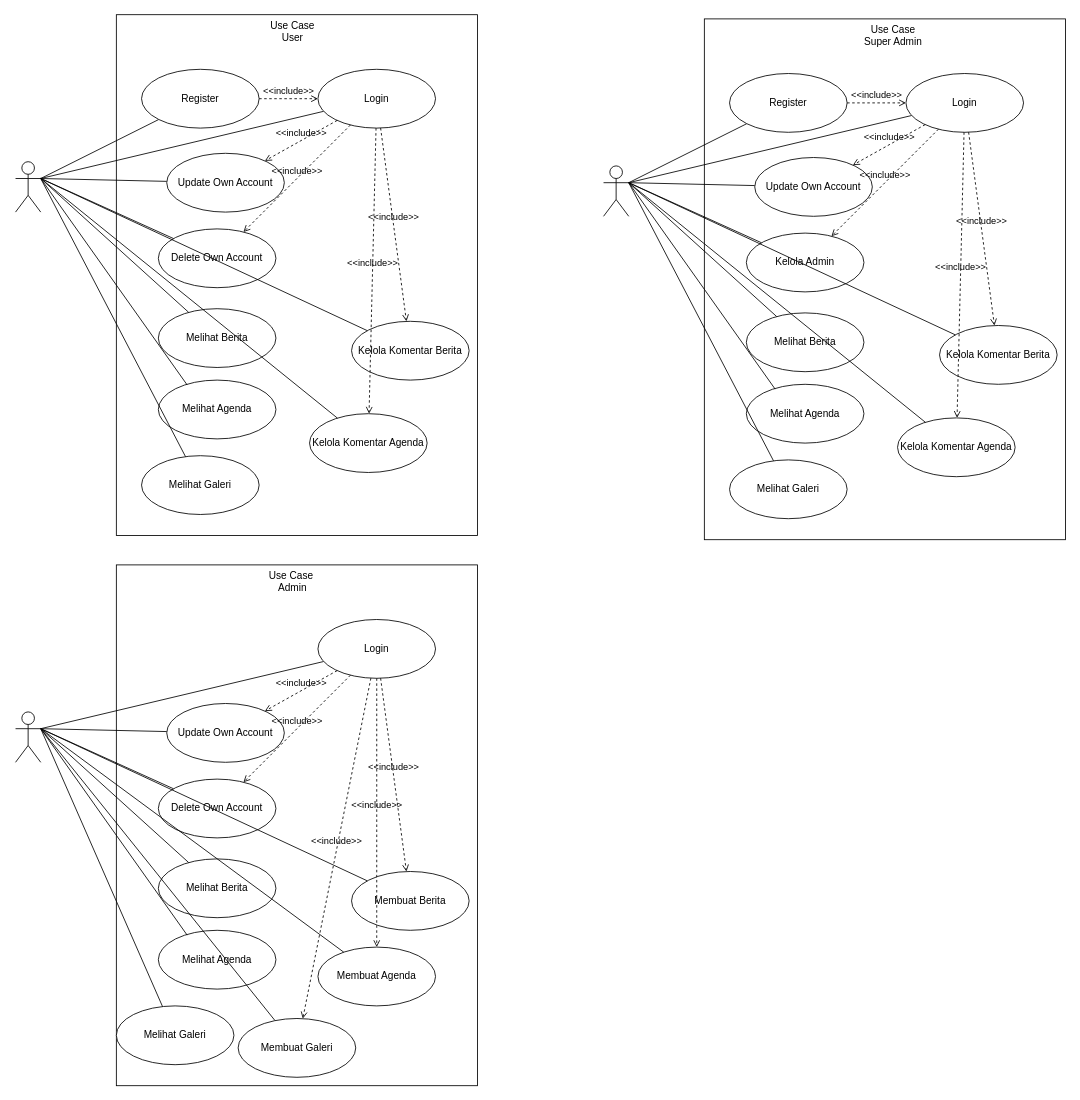
The diagram is 1080 pixels wide and 1100 high, and some of its shapes have lost their labels. The box of each missing label's shape, as (x1, y1, x2, y2) in pixels:
admin: (15, 711, 41, 762)
super admin: (603, 165, 629, 216)
user: (15, 161, 41, 212)
